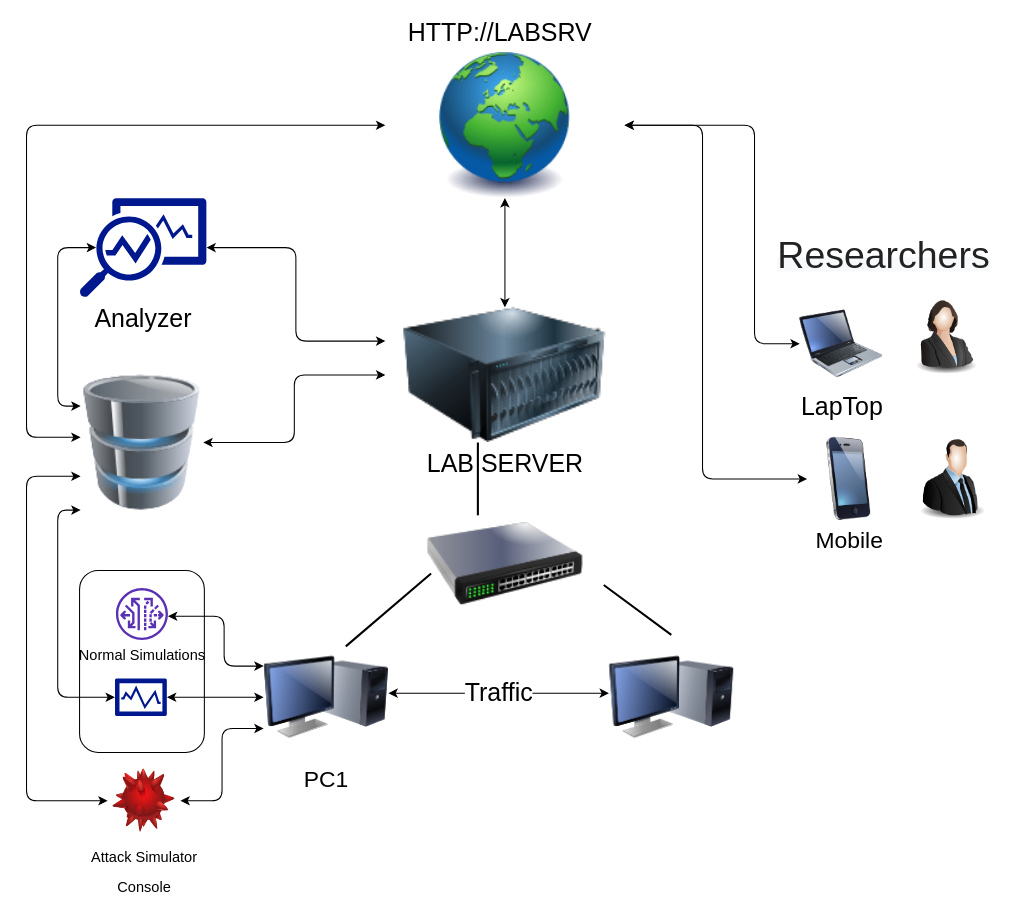
The diagram is 1015 pixels wide and 918 high, and some of its shapes have lost their labels. The centre of each missing label's shape, as x and y in pixels:
"DB" goes at point 141,442.
"Detector" goes at point 140,697.
"PC2" goes at point 670,696.
